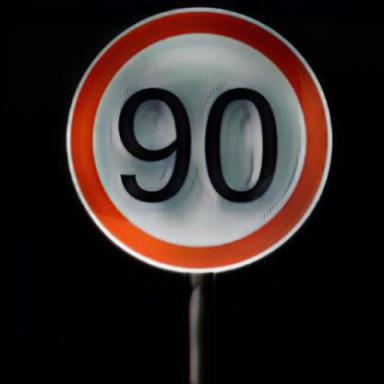Speed_limit_90: (71, 8, 327, 271)
